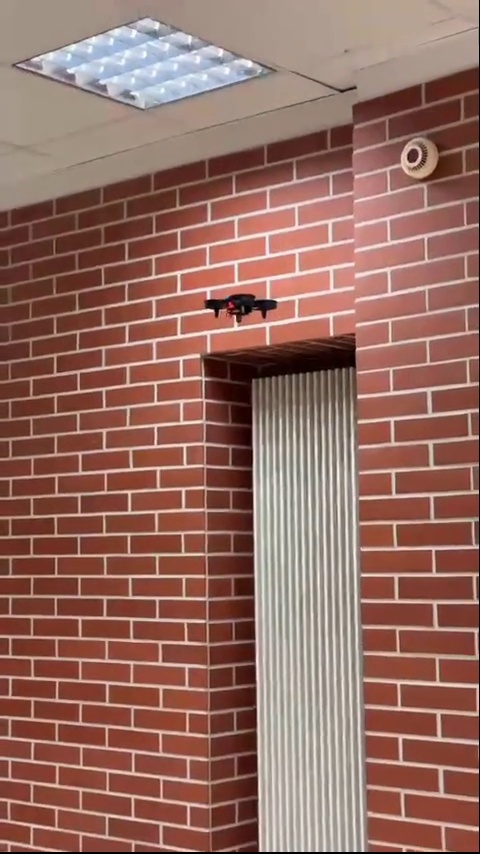drone: (205, 289, 276, 323)
